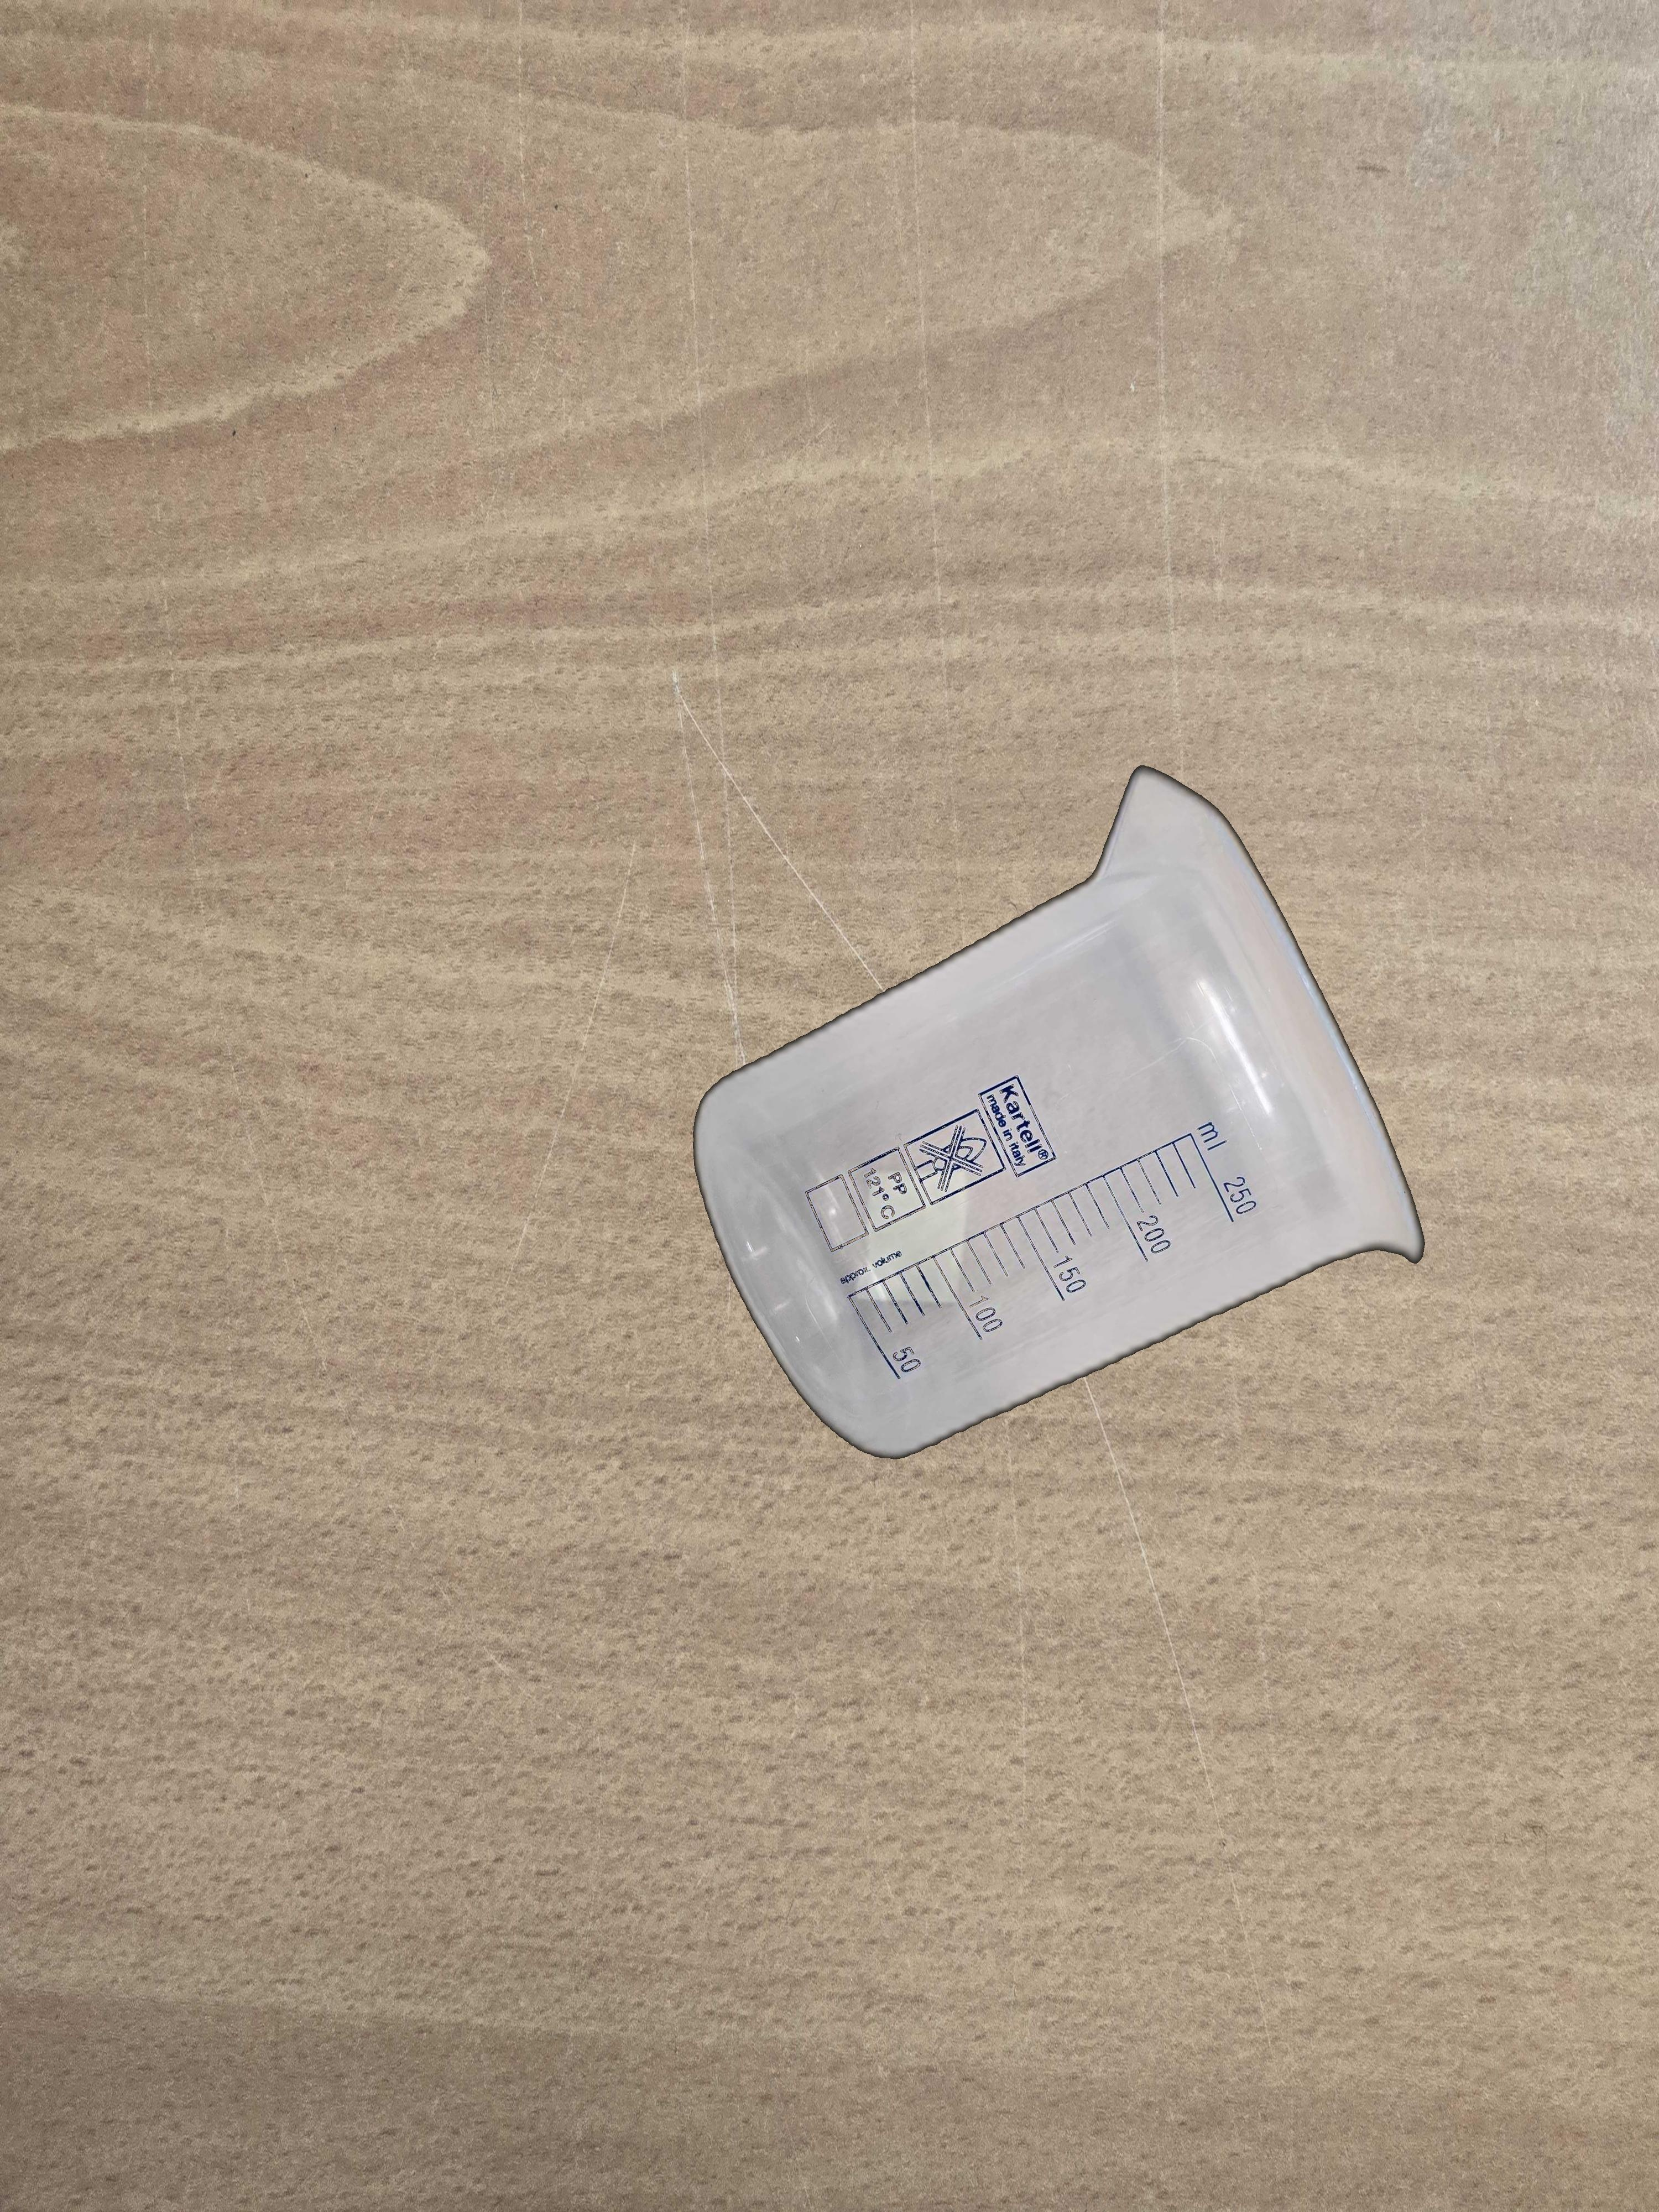becker: (692, 761, 1422, 1461)
